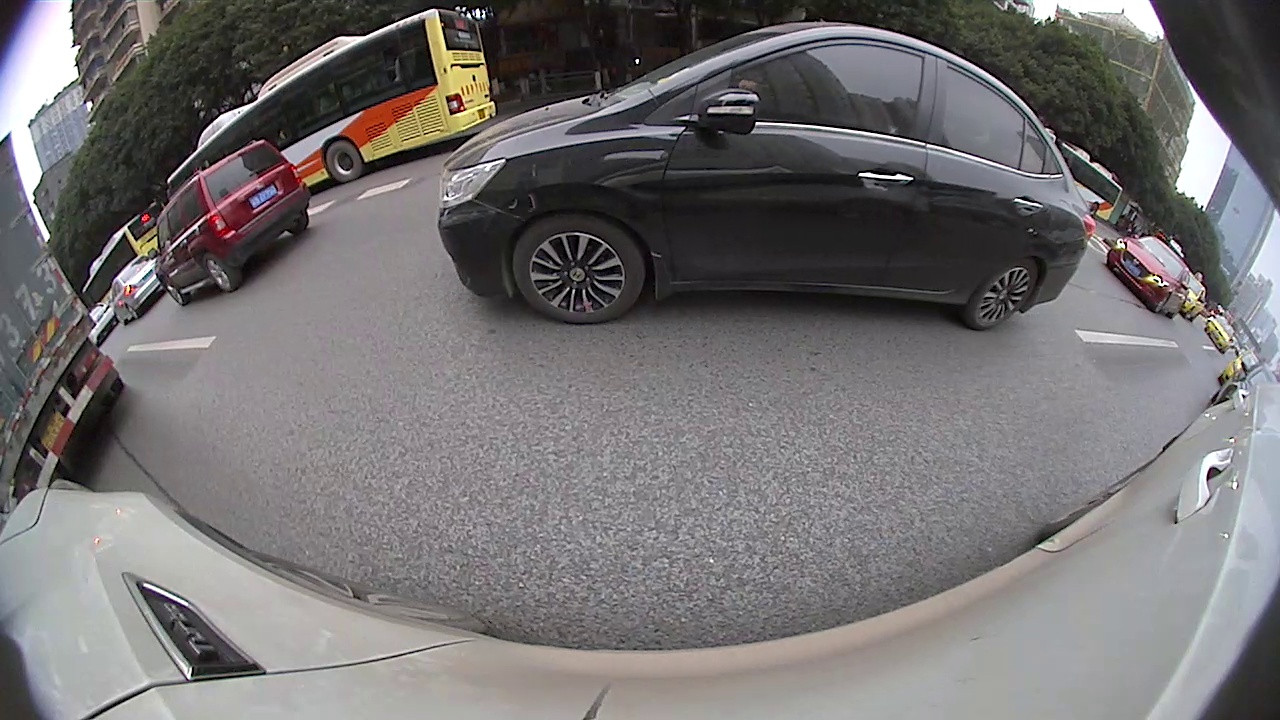bus: (166, 7, 499, 198), (79, 210, 171, 304), (1053, 140, 1124, 226)
car: (439, 21, 1089, 333), (152, 138, 312, 307), (1109, 231, 1188, 318), (110, 257, 162, 324), (1217, 368, 1279, 406), (1204, 316, 1239, 353), (1182, 276, 1209, 320)
front: (513, 213, 651, 325), (166, 274, 183, 305), (1154, 292, 1174, 315)
rear: (970, 252, 1032, 329), (320, 140, 367, 182), (201, 252, 247, 292), (1090, 201, 1101, 215)
truck: (1, 133, 123, 511)
